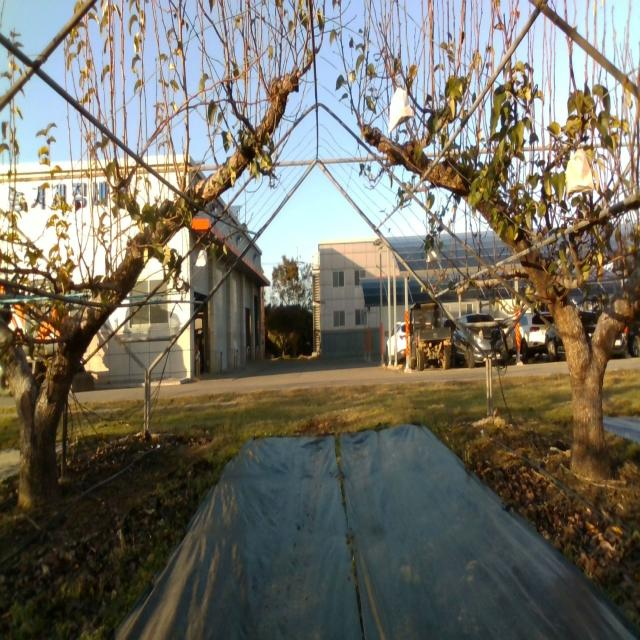pearbags: (566, 148, 595, 202), (388, 80, 414, 135), (426, 244, 441, 266), (196, 248, 207, 268)
